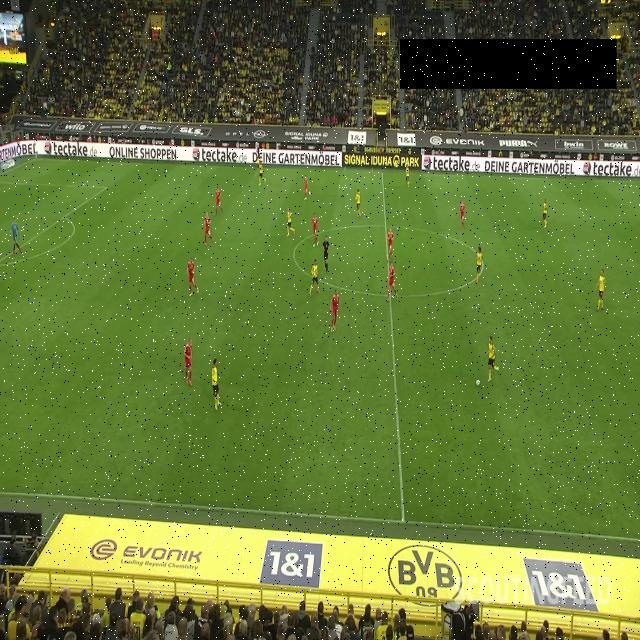Ball: (476, 378, 480, 386)
GoalKeeper: (9, 216, 22, 256)
Referee: (322, 234, 330, 274), (256, 147, 262, 168)
TEAM 1: (186, 256, 200, 296), (330, 289, 340, 332), (387, 263, 398, 301), (185, 337, 193, 387), (203, 212, 214, 245), (312, 210, 320, 249), (386, 228, 394, 262), (214, 186, 223, 216), (458, 200, 467, 228), (304, 172, 312, 202)
TEAM 2: (488, 332, 500, 384), (212, 356, 221, 413), (596, 268, 606, 314), (309, 260, 320, 296), (476, 244, 484, 285), (286, 207, 295, 236), (258, 160, 266, 186), (542, 198, 548, 229), (356, 188, 362, 218), (406, 162, 412, 189)
